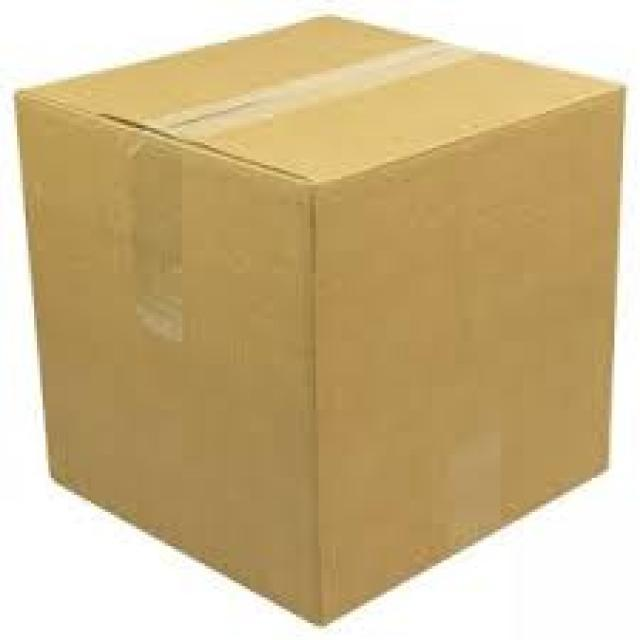Cardboard: (12, 14, 627, 627)
